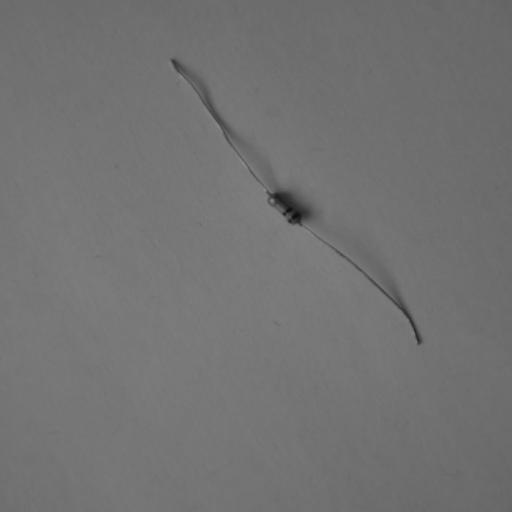RESISTOR: (213, 158, 347, 286)
